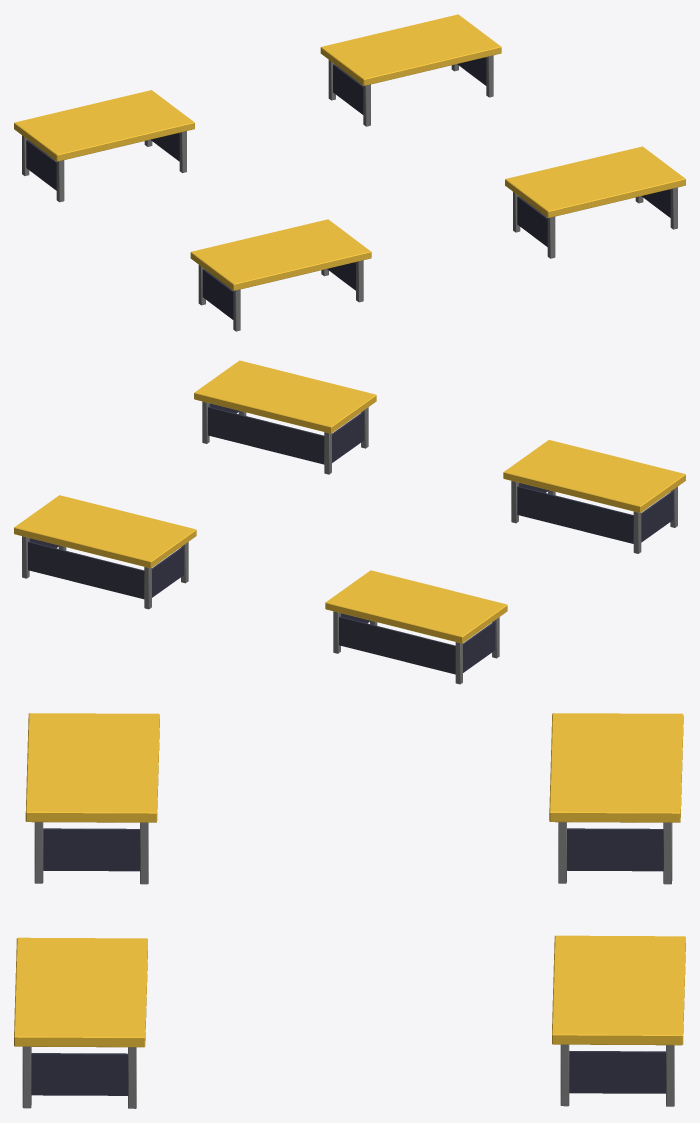
The model's file is studentTable.glb.
3 renders of one model, top to bottom at view 1: azimuth 30°, elevation 25°; view 2: azimuth 150°, elevation 25°; view 3: azimuth 270°, elevation 25°, orthographic. The views are drawn at different scales.
Visible parts, largest first — view 1: Board (×3), Board 1, Boards (×4), Legs (×4); view 2: Board (×3), Boards (×4), Board 1, Legs (×4); view 3: Board (×3), Boards (×4), Board 1, Legs (×4).
Boxes of the visible parts, left/top/right/bottom form: Board (×3): left=14, top=90, right=685, bottom=290; Board 1: left=320, top=14, right=501, bottom=85; Boards (×4): left=26, top=57, right=670, bottom=319; Legs (×4): left=22, top=55, right=677, bottom=331; Board (×3): left=194, top=360, right=685, bottom=643; Boards (×4): left=28, top=403, right=673, bottom=674; Board 1: left=14, top=495, right=196, bottom=568; Legs (×4): left=22, top=401, right=677, bottom=684; Board (×3): left=14, top=713, right=683, bottom=1047; Boards (×4): left=31, top=828, right=665, bottom=1095; Board 1: left=552, top=935, right=685, bottom=1045; Legs (×4): left=22, top=822, right=674, bottom=1108.
Bounding box in the file's own units: 1.92 × 0.2081 × 1.68.
